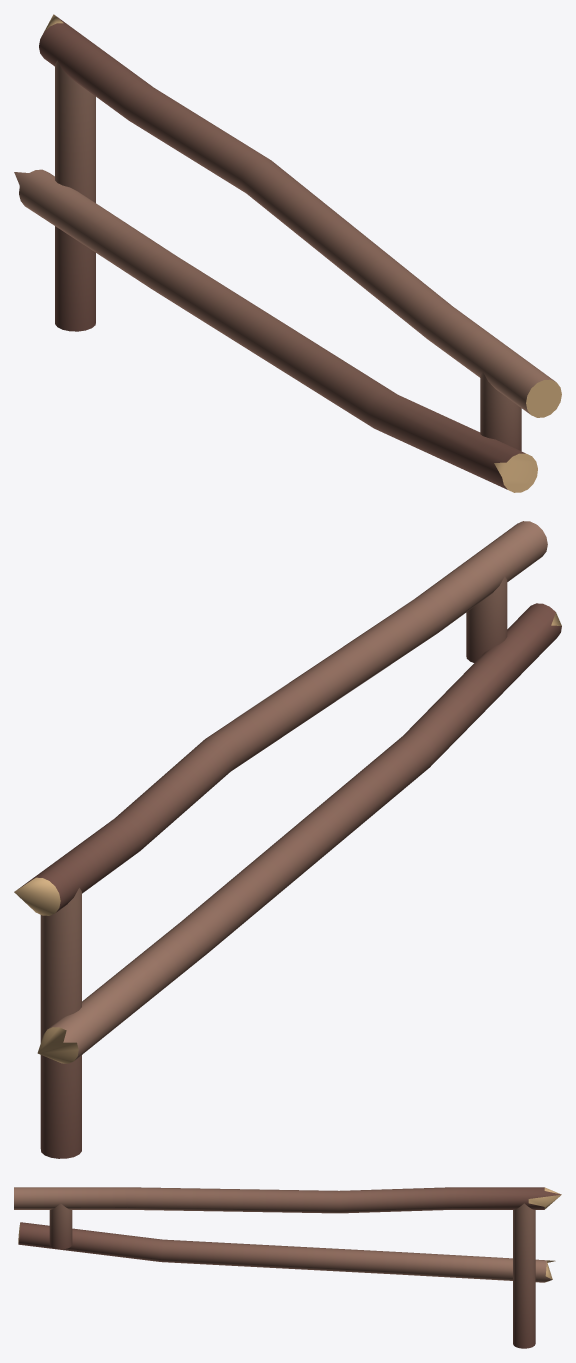
File: Log_Fence_2.fbx
The picture shows the model from 3 angles, top to bottom: view 1: azimuth 30°, elevation 25°; view 2: azimuth 150°, elevation 25°; view 3: azimuth 270°, elevation 25°; orthographic projection. The views are drawn at different scales.
Parts seen in each view (by area): view 1: Log_Fence_2; view 2: Log_Fence_2; view 3: Log_Fence_2.
Part boxes in pixels (<box>): Log_Fence_2: <box>14,14,561,492</box>; Log_Fence_2: <box>14,521,561,1158</box>; Log_Fence_2: <box>14,1187,561,1348</box>.
Size of the model in its own units: 0.398 by 1.52 by 4.84.
